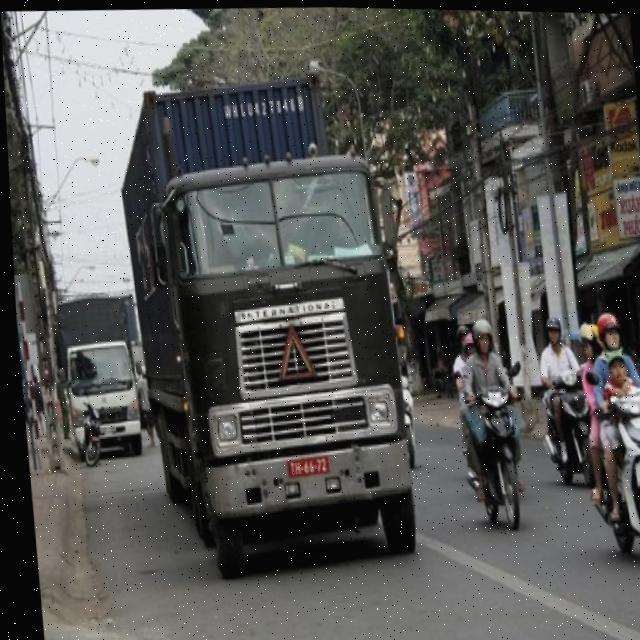car: (148, 153, 441, 585), (45, 291, 158, 478)
motorcycle: (459, 380, 533, 542), (541, 367, 602, 497), (599, 385, 640, 568), (73, 399, 108, 468)
plate: (279, 447, 335, 480)
